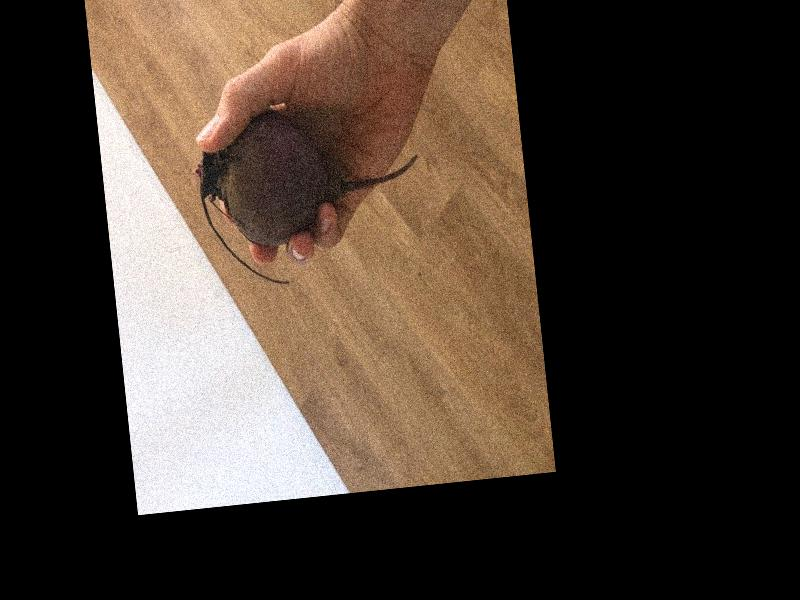Beet: (188, 96, 427, 294)
